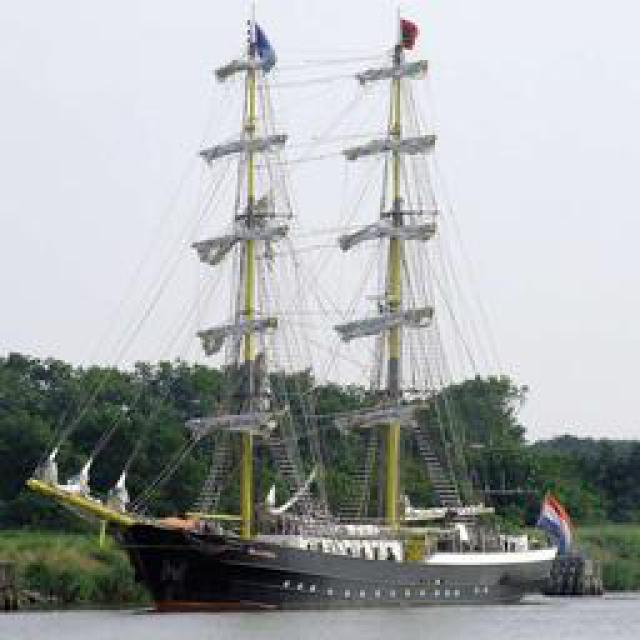Ship: (105, 497, 585, 610)
